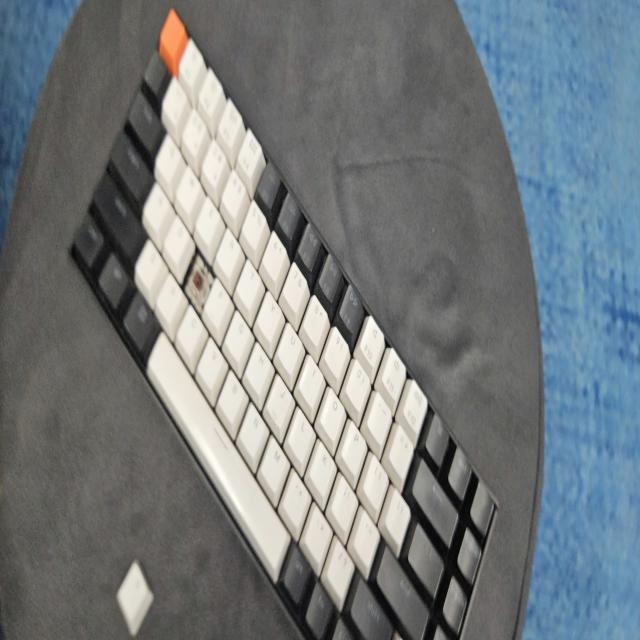C: (189, 258, 207, 303)
